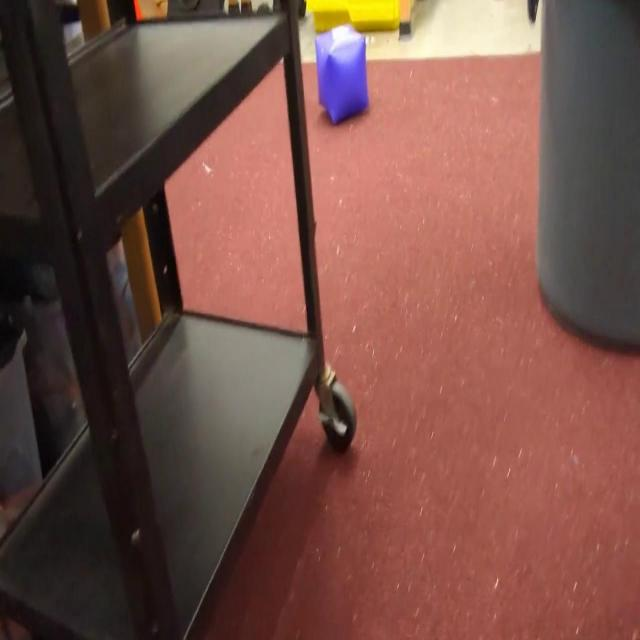frc_cube: (314, 23, 368, 124)
